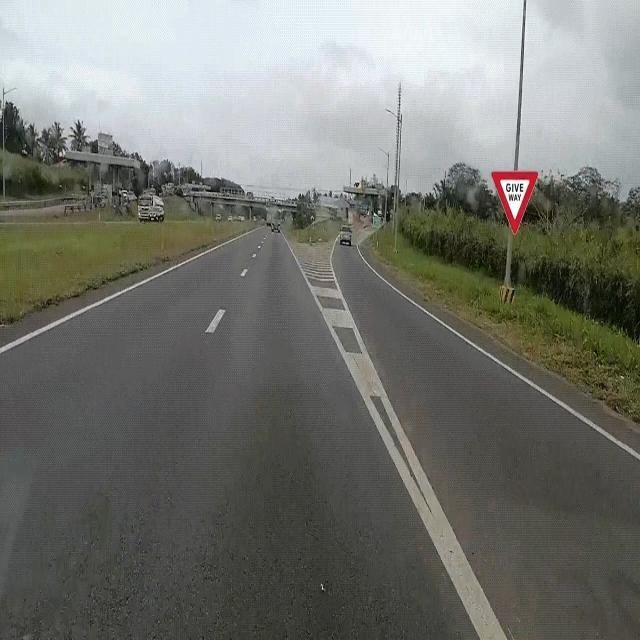Ceder-le-Passage: (486, 156, 542, 240)
